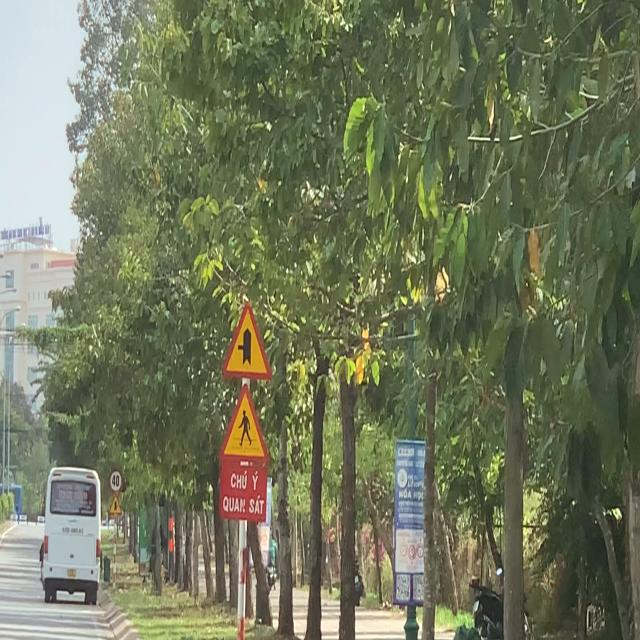Giao voi duong khong uu tien: (222, 295, 276, 380)
Nguoi di bo cat ngang: (220, 380, 270, 462)
